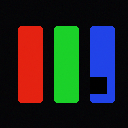1 square: (90, 77, 106, 93)
